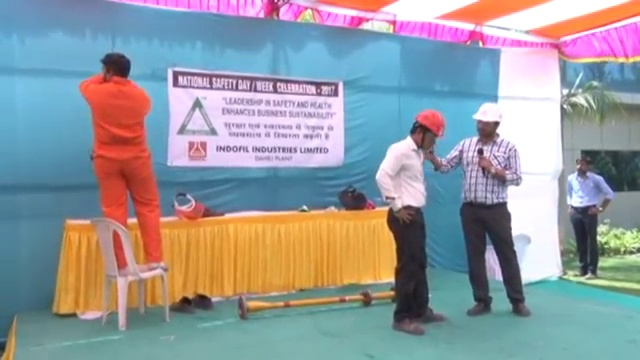helmet: (415, 108, 447, 137), (471, 100, 503, 124)
helmet_off: (97, 51, 132, 81), (575, 155, 589, 176)
helmet_on: (408, 110, 446, 153), (470, 101, 504, 143)
person: (423, 100, 532, 319), (79, 52, 170, 272), (371, 106, 452, 333), (564, 154, 616, 284)
